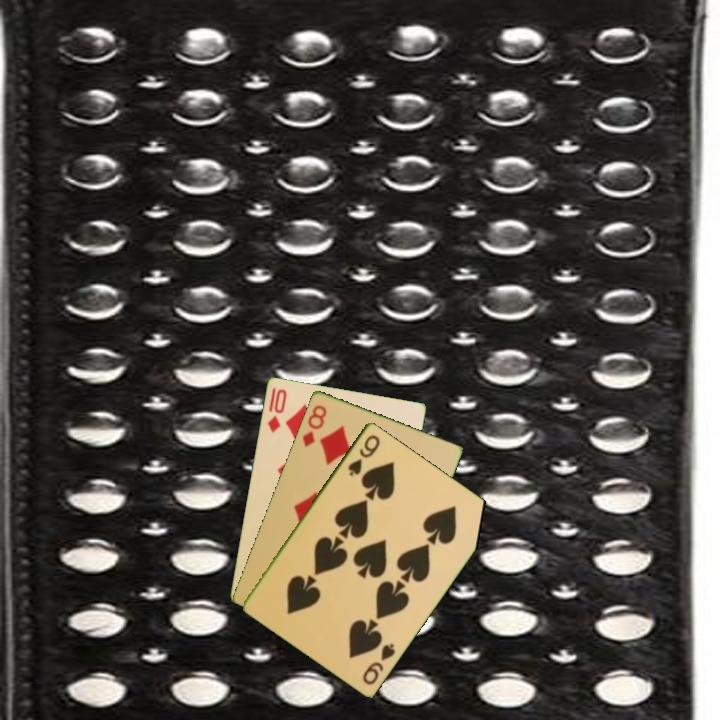10d: (264, 385, 289, 435)
8d: (299, 401, 330, 450)
9s: (344, 431, 383, 479), (359, 639, 398, 687)
